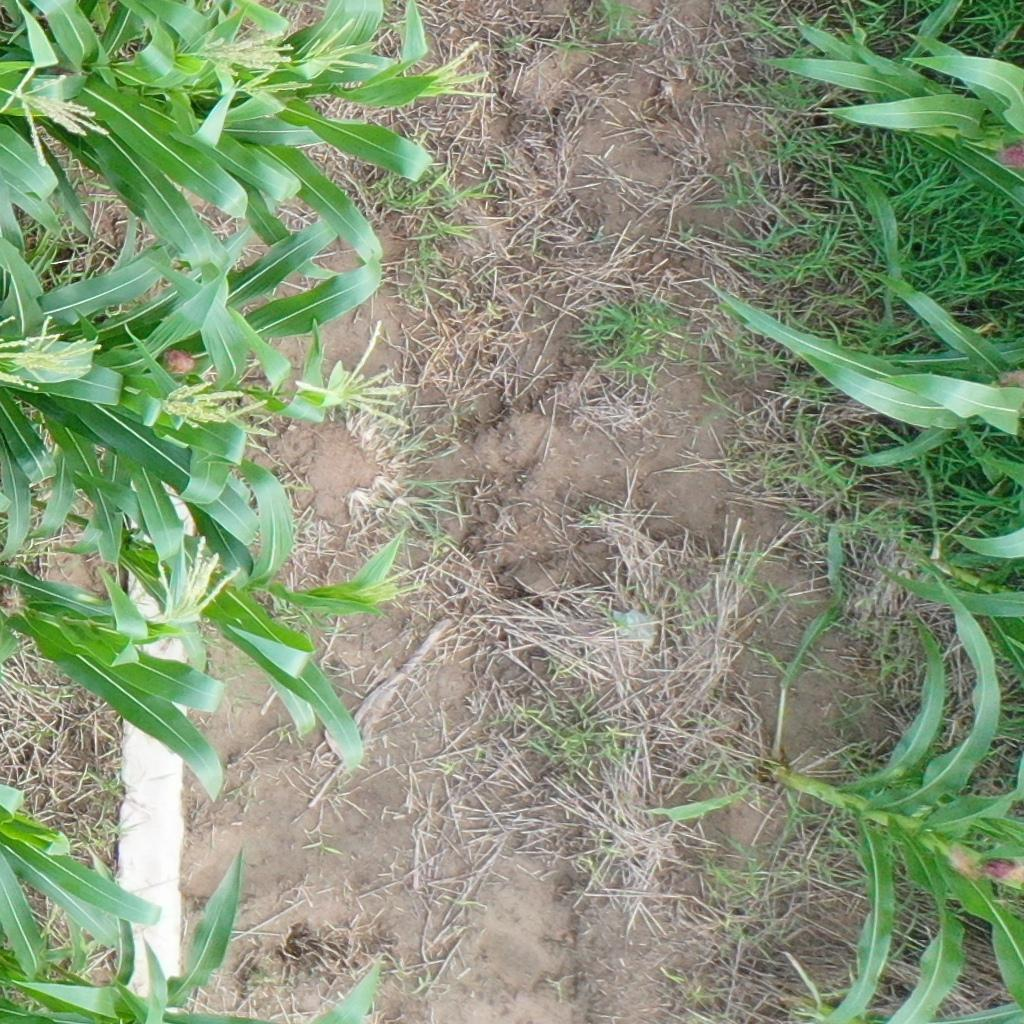Tassel: (296, 318, 411, 431), (2, 61, 109, 171), (149, 528, 246, 631), (1, 310, 102, 403), (154, 377, 276, 438), (300, 18, 382, 79), (418, 43, 497, 105), (186, 36, 297, 75), (215, 71, 308, 115), (351, 566, 425, 614)
